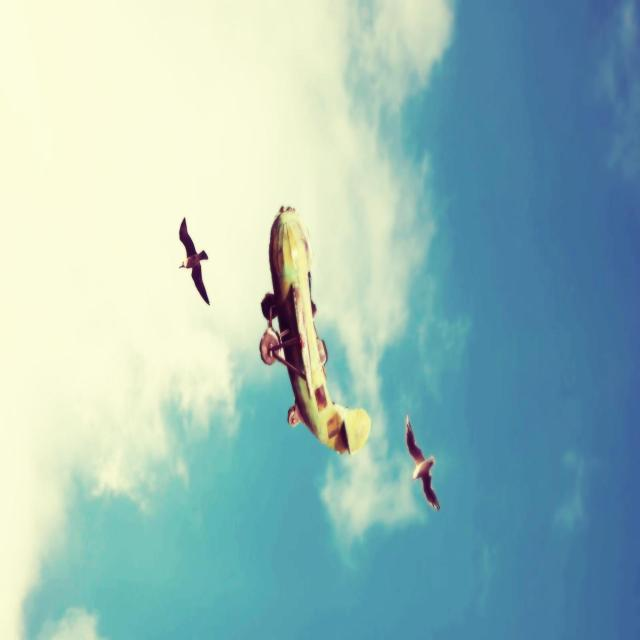airplane: (259, 203, 371, 455)
